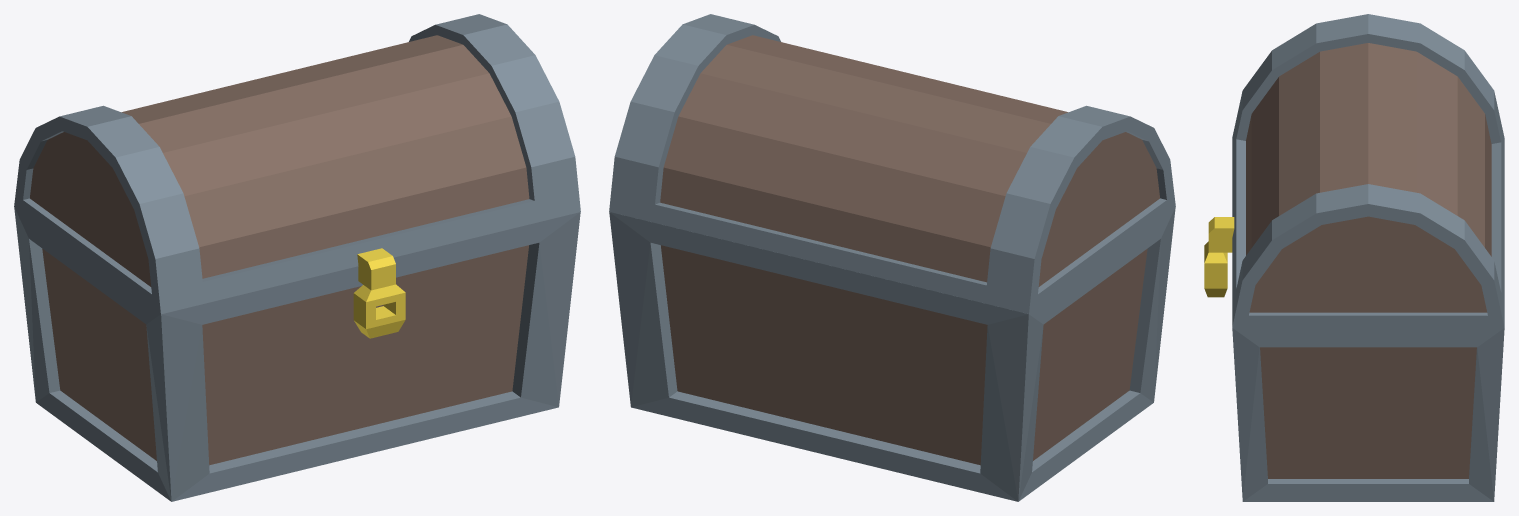
The model's file is ChestFermeSerrure.obj.
3 views of the same model, side by side, from view 1: azimuth 30°, elevation 25°; view 2: azimuth 150°, elevation 25°; view 3: azimuth 270°, elevation 25° (orthographic). The views are drawn at different scales.
Parts seen in each view (by area): view 1: Cylinder.090, Cube.280, Cube.281; view 2: Cylinder.090, Cube.280; view 3: Cylinder.090, Cube.280, Cube.281.
Part boxes in pixels (x1=…): Cylinder.090: x1=14, y1=14, x2=580, y2=314; Cube.280: x1=14, y1=207, x2=580, y2=501; Cube.281: x1=353, y1=248, x2=405, y2=338; Cylinder.090: x1=609, y1=14, x2=1175, y2=313; Cube.280: x1=609, y1=207, x2=1175, y2=501; Cylinder.090: x1=1232, y1=14, x2=1504, y2=327; Cube.280: x1=1232, y1=328, x2=1504, y2=501; Cube.281: x1=1204, y1=217, x2=1234, y2=297.
Bounding box in the file's own units: 1.89 × 1.42 × 1.26.
1 material, 1 textured.
